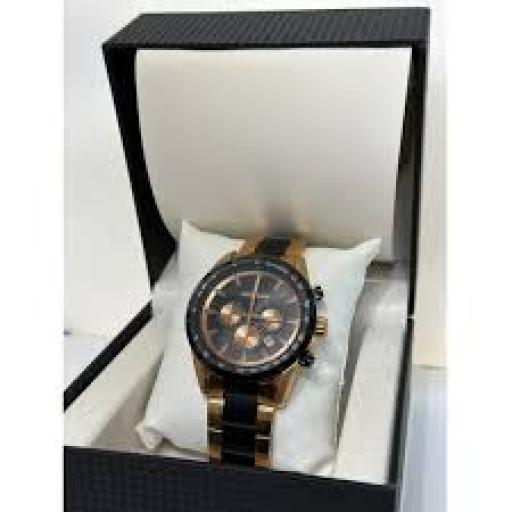KolSaati: (178, 202, 334, 474)
